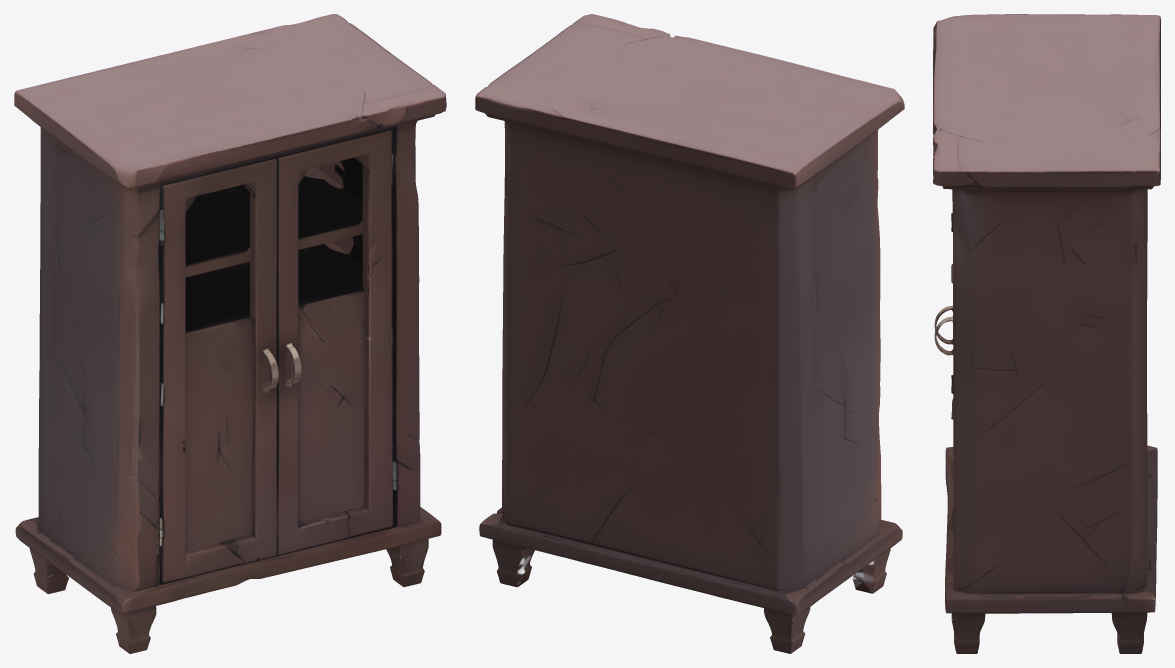
File: base_basic_shaded.glb
3 renders of one model, left to right at view 1: azimuth 30°, elevation 25°; view 2: azimuth 150°, elevation 25°; view 3: azimuth 270°, elevation 25°, orthographic.
Visible parts, largest first — view 1: model; view 2: model; view 3: model.
Part boxes in pixels (x1,y1,x2,y2): model: (14,14,446,653); model: (475,14,904,653); model: (933,14,1160,653).
Bounding box in the file's own units: 1.31 × 1.9 × 0.7985.
Materials: 1 (1 with a texture image).
